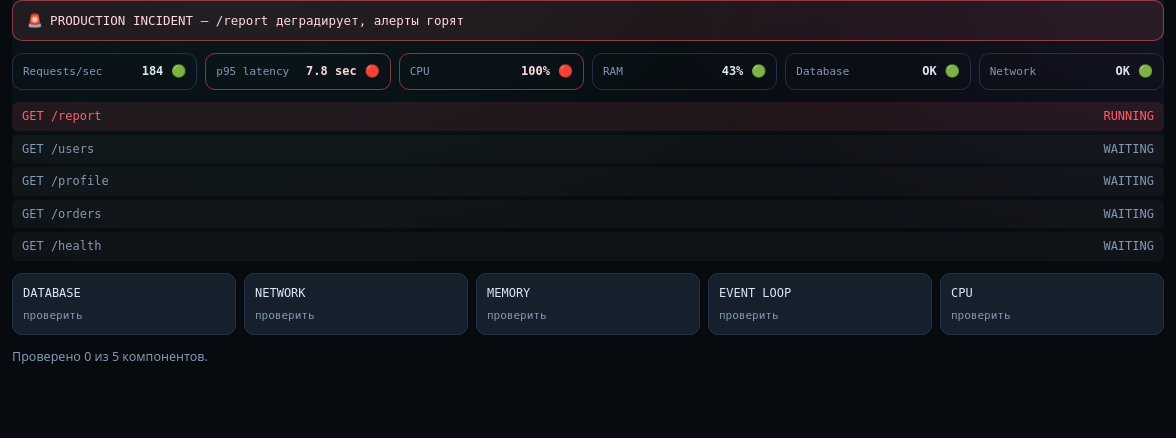
финальный босс: расследование инцидента › Event Loop и CPU — единственные красные вердикты
Click the button "EVENT LOOP проверить" at (820, 304), box x1=708 y1=273 x2=932 y2=334
Wait 600 ms
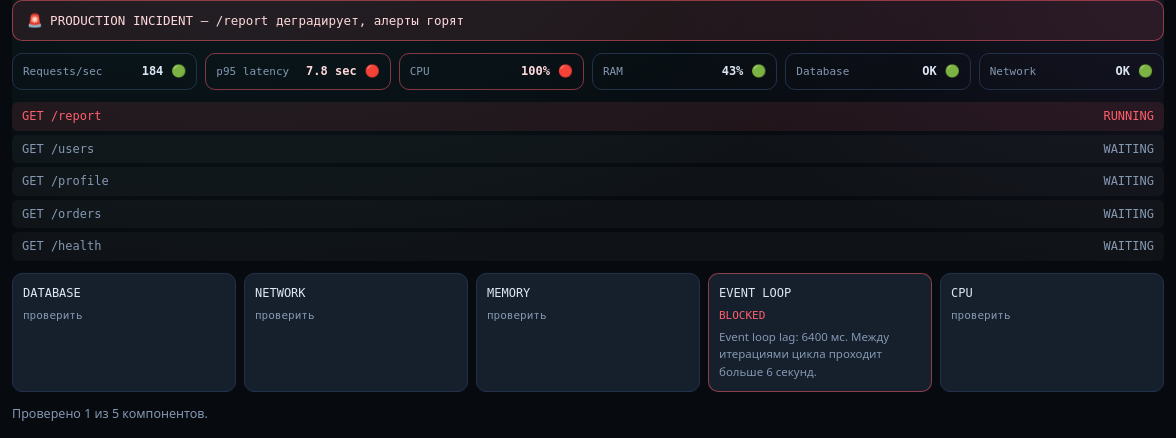
Click the button "CPU проверить" at (1052, 332), box x1=940 y1=273 x2=1164 y2=392
Wait 600 ms
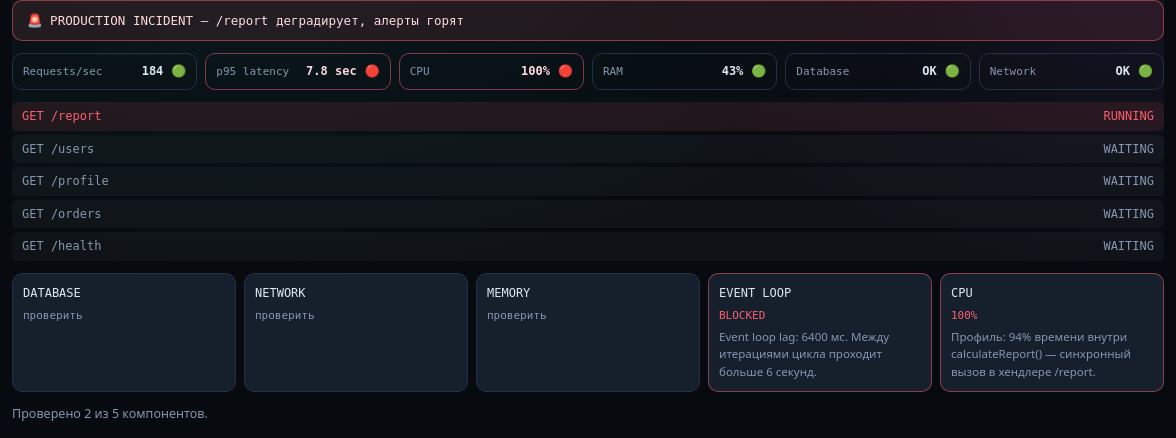
Now the text "BLOCKED" is shown, box x1=719 y1=306 x2=765 y2=324
Now the text "Event loop lag: 6400 мс" is shown, box x1=719 y1=329 x2=889 y2=379
Now the text "94% времени внутри calculateReport()" is shown, box x1=951 y1=329 x2=1131 y2=379
